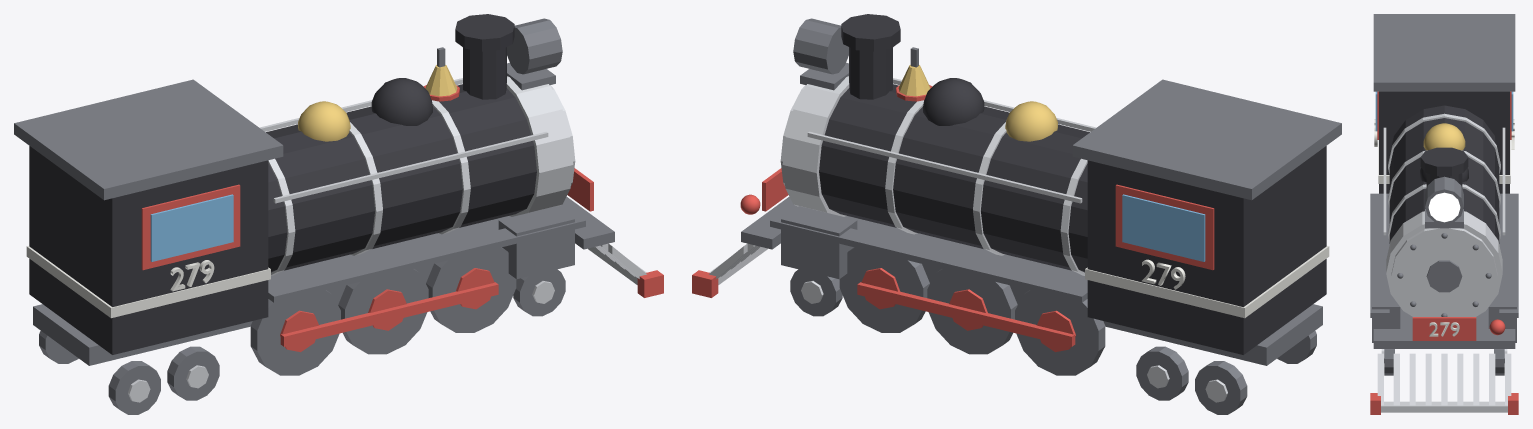
File: Locomotive_Steam.fbx
3 views of the same model, side by side, from view 1: azimuth 30°, elevation 25°; view 2: azimuth 150°, elevation 25°; view 3: azimuth 270°, elevation 25° (orthographic). The views are drawn at different scales.
Visible parts, largest first — view 1: Locomotive_Steam; view 2: Locomotive_Steam; view 3: Locomotive_Steam.
Part boxes in pixels (x1=…): Locomotive_Steam: x1=14, y1=14, x2=663, y2=414; Locomotive_Steam: x1=692, y1=14, x2=1341, y2=414; Locomotive_Steam: x1=1370, y1=14, x2=1518, y2=414.
Size of the model in its own units: 5.72 by 2.61 by 1.68.
